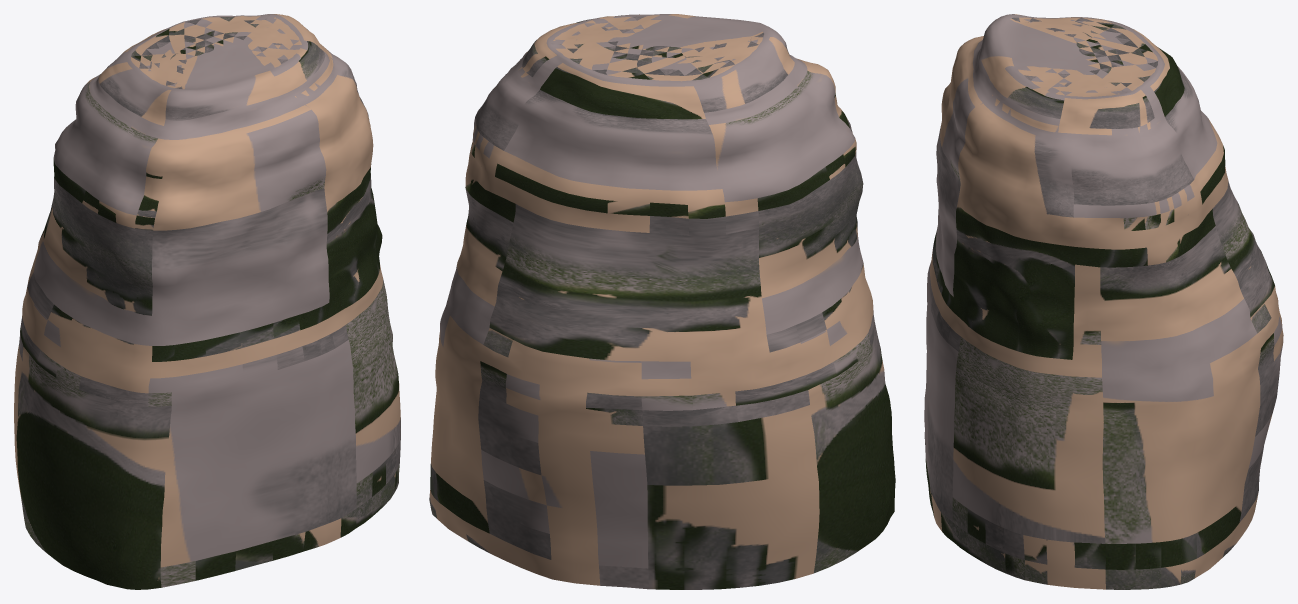
File: SM_Island2_L.fbx
3 renders of one model, left to right at view 1: azimuth 30°, elevation 25°; view 2: azimuth 150°, elevation 25°; view 3: azimuth 270°, elevation 25°, orthographic. The views are drawn at different scales.
Parts seen in each view (by area): view 1: Line010; view 2: Line010; view 3: Line010.
Part boxes in pixels (x1,y1,x2,y2): Line010: (14, 14, 400, 589); Line010: (429, 14, 895, 589); Line010: (924, 14, 1283, 589).
Size of the model in its own units: 893 by 1067 by 762.
